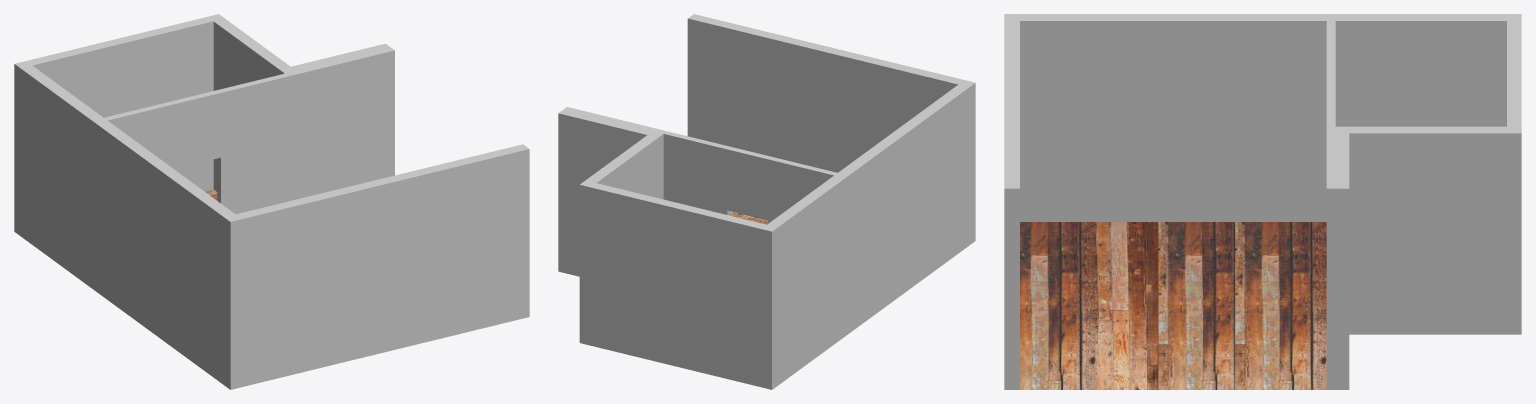
The model's file is veteran_room.FBX.
3 renders of one model, left to right at view 1: azimuth 30°, elevation 25°; view 2: azimuth 150°, elevation 25°; view 3: azimuth 270°, elevation 25°, orthographic. The views are drawn at different scales.
Visible parts, largest first — view 1: vet_room_walls; view 2: vet_room_walls; view 3: vet_room_walls, vet_room_floor.
Boxes of the visible parts, box(x1,y1,x2,y2) form: vet_room_walls: box(14, 14, 529, 389); vet_room_walls: box(558, 14, 975, 389); vet_room_walls: box(1004, 14, 1521, 389); vet_room_floor: box(1020, 222, 1326, 389).
Size of the model in its own units: 521 by 280 by 651.
